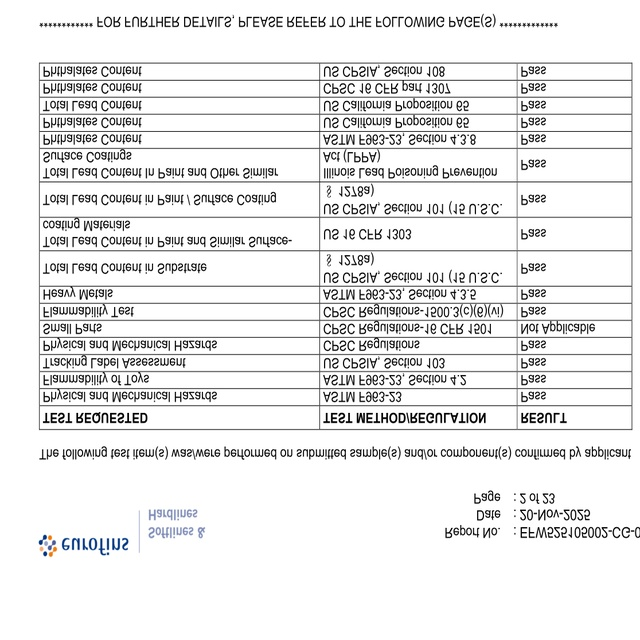eurofins: (32, 529, 133, 562)
